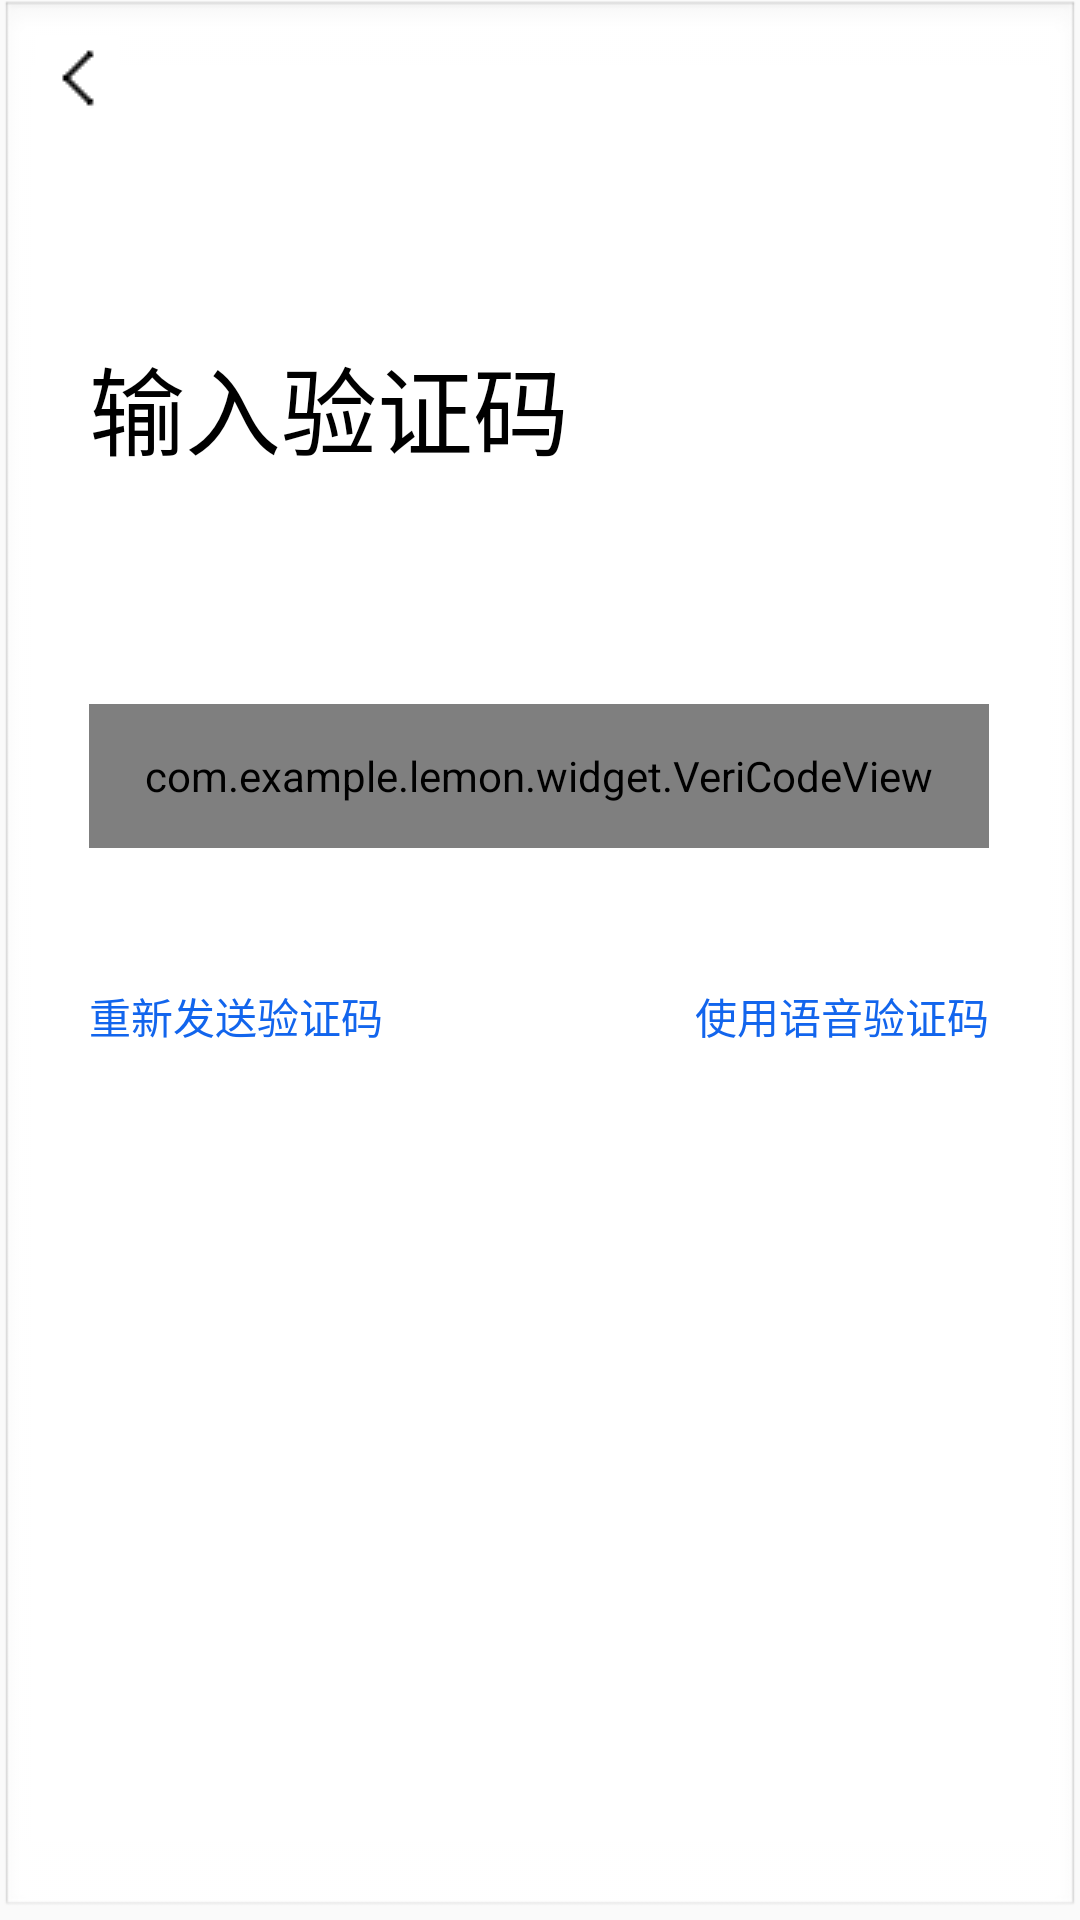

Screen size 1080 × 1920. Icon name, then its box in pixels as (x1, y1, x2, y2):
关闭: (62, 50, 94, 106)
